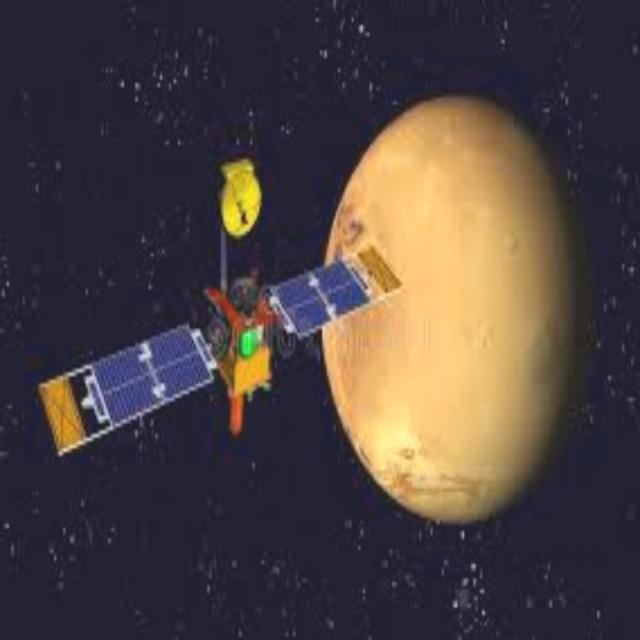medium_debris: (49, 149, 394, 500)
